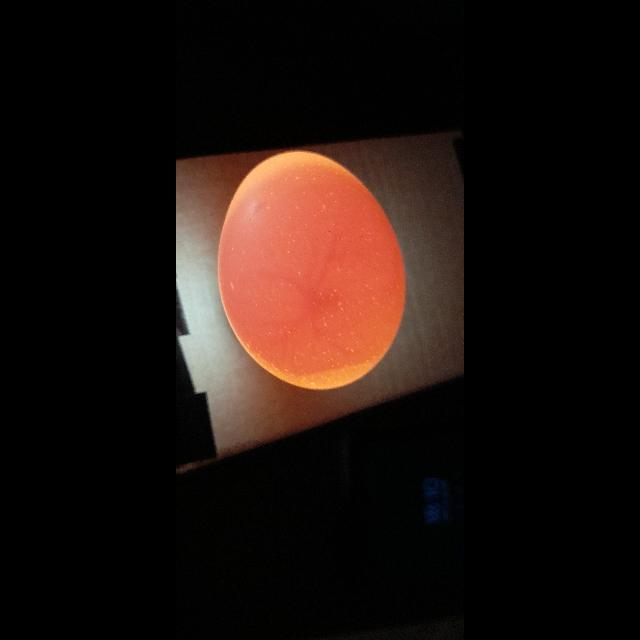Fertile: (224, 149, 400, 387)
